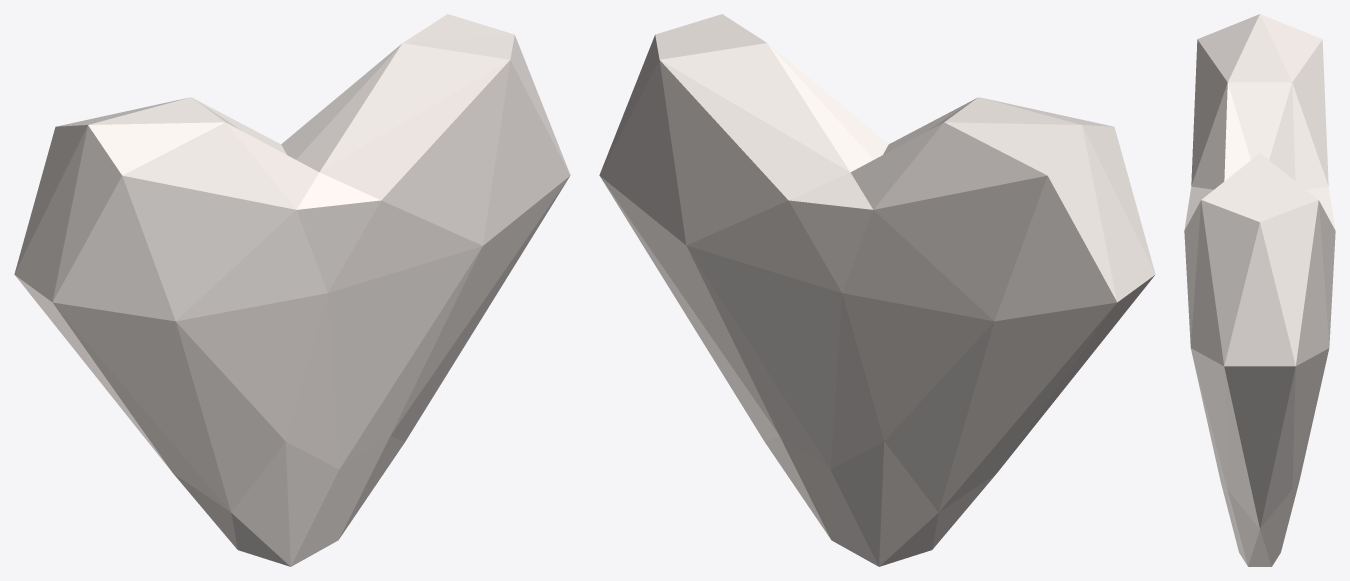
The model's file is heart.glb.
The picture shows the model from 3 angles, left to right: view 1: azimuth 30°, elevation 25°; view 2: azimuth 150°, elevation 25°; view 3: azimuth 270°, elevation 25°; orthographic projection. The views are drawn at different scales.
Parts seen in each view (by area): view 1: Icosphere; view 2: Icosphere; view 3: Icosphere.
Boxes of the visible parts, x1,y1,x2,y2 form: Icosphere: [14, 14, 570, 566]; Icosphere: [599, 14, 1155, 566]; Icosphere: [1184, 14, 1335, 566].
Bounding box in the file's own units: 4.15 × 3.74 × 1.12.
1 material, 1 textured.
